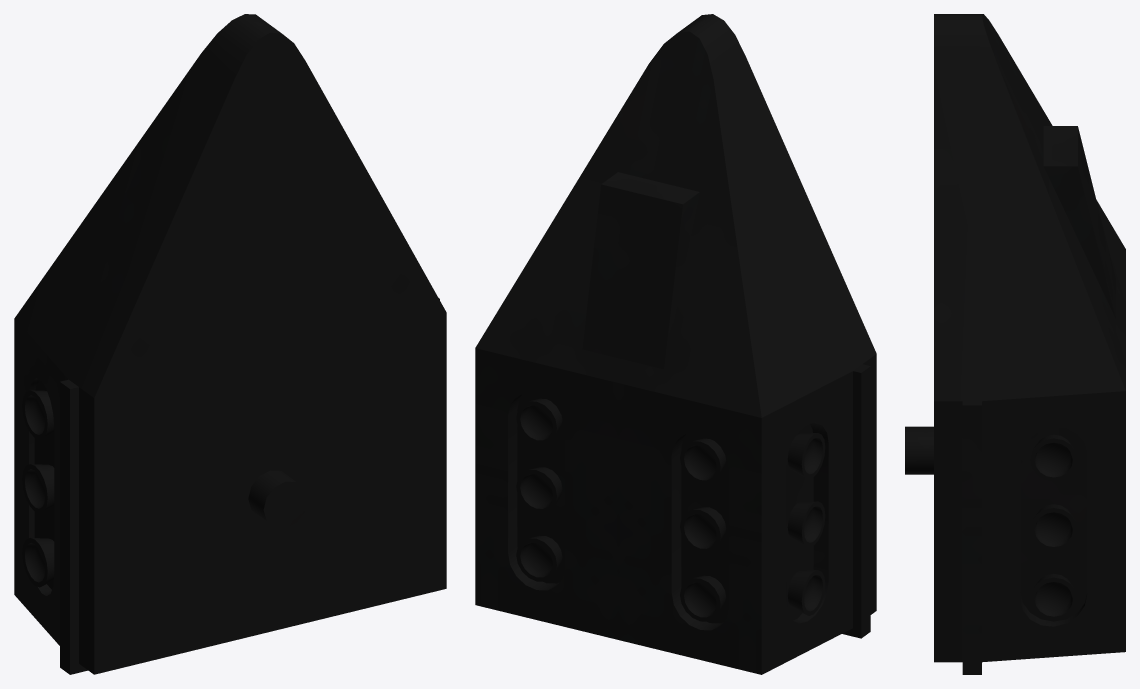
The model's file is rotanev_rcs_block_srf_2.obj.
3 renders of one model, left to right at view 1: azimuth 30°, elevation 25°; view 2: azimuth 150°, elevation 25°; view 3: azimuth 270°, elevation 25°, orthographic. The views are drawn at different scales.
Parts seen in each view (by area): view 1: 1; view 2: 1; view 3: 1.
Part boxes in pixels (x1,y1,x2,y2): 1: (14, 14, 446, 674); 1: (475, 14, 876, 674); 1: (905, 14, 1125, 674).
Bounding box in the file's own units: 1.05 × 1.65 × 0.575.
